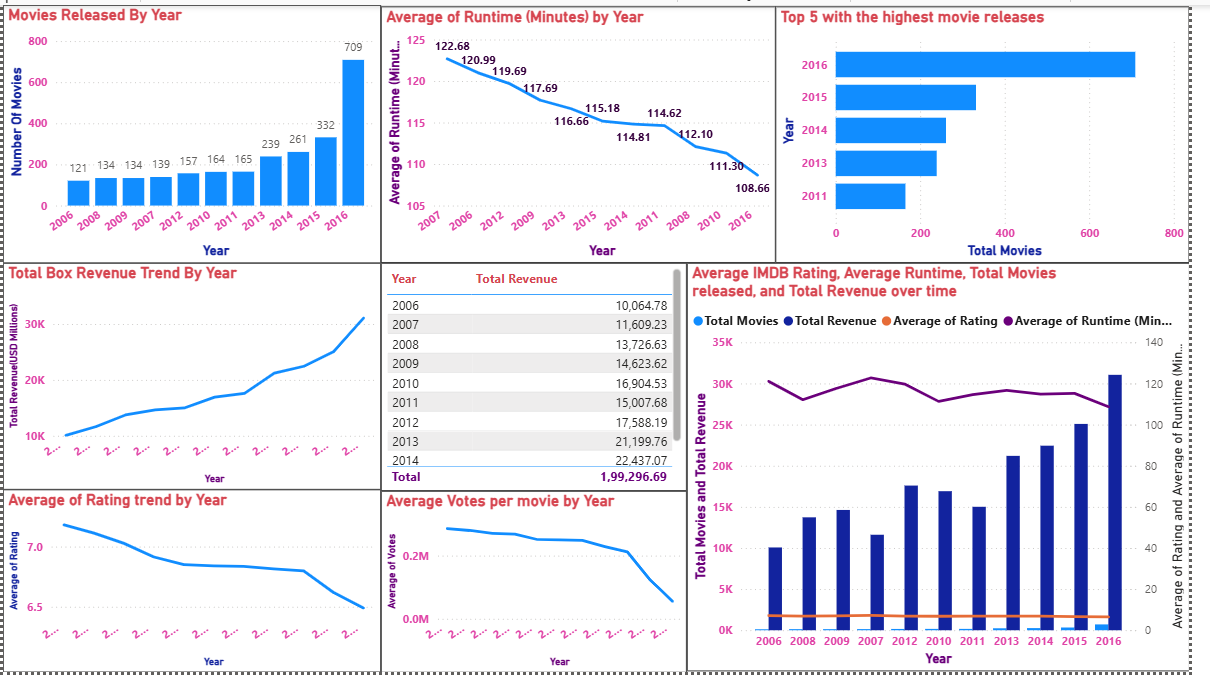

Layout of this report page (visuals, bound fields, positions):
{"tool":"powerbi","page":{"name":"Page 1","canvas":[1280,720],"ordinal":0},"visuals":[{"type":"clusteredColumnChart","title":"Movies Released By Year","fields":{"Category":["IMDB-Movie-Data.Year"],"Y":["CountNonNull(IMDB-Movie-Data.Title)"]},"box":[0,0,408,278.5],"z":0},{"type":"lineChart","title":"Total Box Revenue Trend By Year","fields":{"Category":["IMDB-Movie-Data.Year"],"Y":["IMDB-Movie-Data.Total Revenue"]},"box":[0,278.5,408,244.5],"z":1000},{"type":"lineChart","title":"Average of Rating trend by Year","fields":{"Category":["IMDB-Movie-Data.Year"],"Y":["Avg(IMDB-Movie-Data.Rating)"]},"box":[0,523,408,197.5],"z":2000},{"type":"lineChart","fields":{"Category":["IMDB-Movie-Data.Year"],"Y":["Avg(IMDB-Movie-Data.Runtime (Minutes))"]},"box":[408,1.6,425.9,276.9],"z":3000},{"type":"tableEx","fields":{"Values":["IMDB-Movie-Data.Year","IMDB-Movie-Data.Total Revenue"]},"box":[408,278.5,330.3,246.1],"z":4000},{"type":"clusteredBarChart","title":"Top 5  with the highest movie releases","fields":{"Category":["IMDB-Movie-Data.Year"],"Y":["IMDB-Movie-Data.Total Movies"]},"box":[833.9,1.6,446.9,276.9],"z":5000},{"type":"lineChart","title":"Average Votes per movie by Year","fields":{"Category":["IMDB-Movie-Data.Year"],"Y":["Avg(IMDB-Movie-Data.Votes)"]},"box":[408,524.6,330.3,195.9],"z":6000},{"type":"lineClusteredColumnComboChart","title":"Average IMDB Rating, Average Runtime, Total  Movies released, and Total Revenue over time","fields":{"Category":["IMDB-Movie-Data.Year"],"Y":["IMDB-Movie-Data.Total Movies","IMDB-Movie-Data.Total Revenue"],"Y2":["Avg(IMDB-Movie-Data.Rating)","Avg(IMDB-Movie-Data.Runtime (Minutes))"]},"box":[738.4,278.5,542.4,440.4],"z":7000}]}

Visuals, with their boxes in screenshot pixels (x1, y1, x2, y2), scaled from the page's 1280x720 canvas onto the 1210x675 screenshot:
"Movies Released By Year" clusteredColumnChart: box(0, 0, 386, 261)
"Total Box Revenue Trend By Year" lineChart: box(0, 261, 386, 490)
"Average of Rating trend by Year" lineChart: box(0, 490, 386, 674)
lineChart - IMDB-Movie-Data.Year x Avg(IMDB-Movie-Data.Runtime (Minutes)): box(386, 2, 788, 261)
tableEx - IMDB-Movie-Data.Year x IMDB-Movie-Data.Total Revenue: box(386, 261, 698, 492)
"Top 5  with the highest movie releases" clusteredBarChart: box(788, 2, 1209, 261)
"Average Votes per movie by Year" lineChart: box(386, 492, 698, 674)
"Average IMDB Rating, Average Runtime, Total  Movies released, and Total Revenue over time" lineClusteredColumnComboChart: box(698, 261, 1209, 674)
